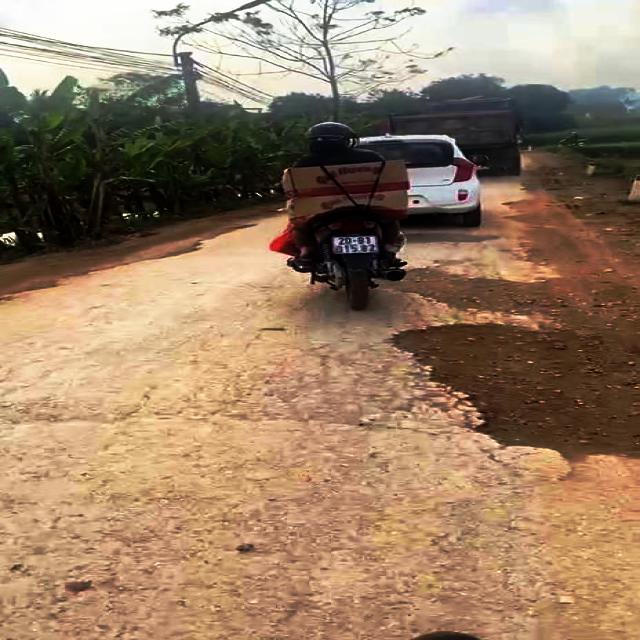pothole: (390, 319, 640, 466), (378, 262, 550, 324), (106, 240, 208, 270), (398, 230, 503, 248)
